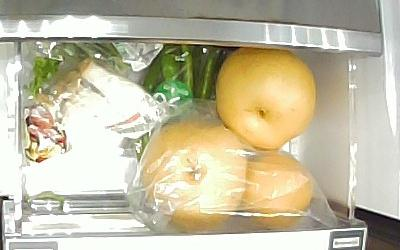pear: (215, 49, 318, 152)
pear_vinyl: (144, 120, 246, 234), (244, 152, 314, 230)
